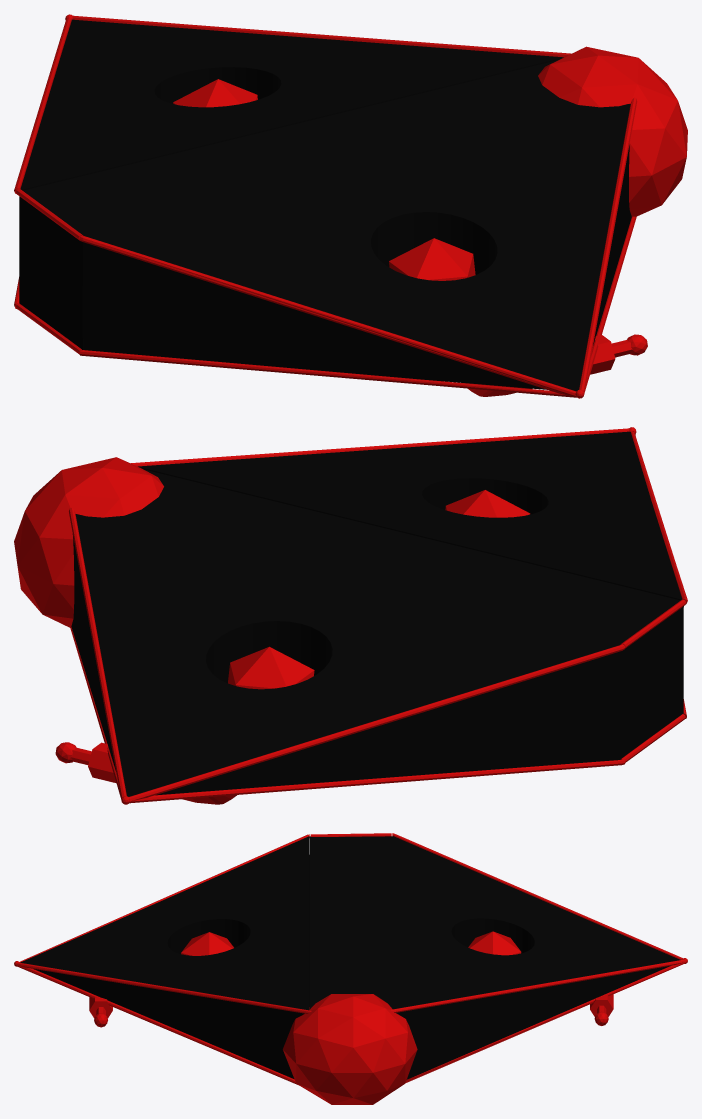
File: Electro.fbx
The picture shows the model from 3 angles, top to bottom: view 1: azimuth 30°, elevation 25°; view 2: azimuth 150°, elevation 25°; view 3: azimuth 270°, elevation 25°; orthographic projection. The views are drawn at different scales.
Visible parts, largest first — view 1: Ala izquierda, Ala derecha, Cuerpo, Cabeza, Contorno izquierda, Contorno derecha, Motor izquierdo, Esfera geodésica, Contorno detrás, Cañón izquierdo; view 2: Ala derecha, Ala izquierda, Cuerpo, Cabeza, Contorno derecha, Contorno izquierda, Esfera geodésica, Motor izquierdo, Cañón derecho, Contorno detrás; view 3: Ala derecha, Ala izquierda, Cuerpo, Cabeza, Contorno derecha, Contorno izquierda, Esfera geodésica, Motor izquierdo.
Part boxes in pixels (x1,y1,x2,y2): Ala izquierda: (82, 104, 631, 391); Ala derecha: (19, 19, 563, 303); Cuerpo: (19, 60, 617, 349); Cabeza: (538, 46, 687, 216); Contorno izquierda: (79, 97, 637, 398); Contorno derecha: (14, 14, 570, 308); Motor izquierdo: (389, 238, 475, 280); Esfera geodésica: (173, 79, 257, 107); Contorno detrás: (16, 189, 82, 354); Cañón izquierdo: (464, 335, 615, 396); Ala derecha: (71, 514, 620, 796); Ala izquierda: (138, 431, 683, 693); Cuerpo: (87, 469, 683, 759); Cabeza: (14, 457, 163, 627); Contorno derecha: (69, 507, 625, 804); Contorno izquierda: (131, 427, 687, 718); Esfera geodésica: (228, 646, 314, 689); Motor izquierdo: (445, 490, 530, 517); Cañón derecho: (88, 742, 236, 804); Contorno detrás: (620, 599, 686, 762); Ala derecha: (393, 836, 679, 1079); Ala izquierda: (20, 836, 309, 1078); Cuerpo: (309, 836, 392, 1009); Cabeza: (283, 994, 417, 1104); Contorno derecha: (391, 833, 687, 1082); Contorno izquierda: (14, 834, 311, 1084); Esfera geodésica: (468, 931, 521, 955); Motor izquierdo: (181, 932, 233, 955).
Bounding box in the file's own units: 570 × 140 × 808.
